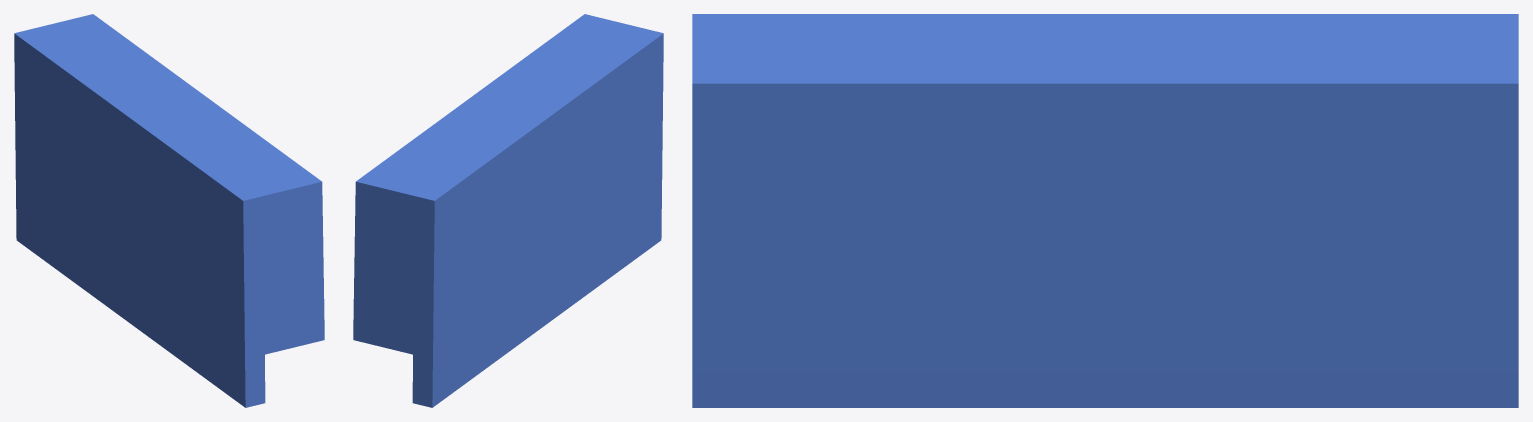
File: TopPlastic_Straight_Collision.fbx
3 views of the same model, side by side, from view 1: azimuth 30°, elevation 25°; view 2: azimuth 150°, elevation 25°; view 3: azimuth 270°, elevation 25° (orthographic). The views are drawn at different scales.
Visible parts, largest first — view 1: TopPlastic_Straight_Collision; view 2: TopPlastic_Straight_Collision; view 3: TopPlastic_Straight_Collision.
Part boxes in pixels (bbox=[...]): TopPlastic_Straight_Collision: bbox=[14, 14, 324, 407]; TopPlastic_Straight_Collision: bbox=[353, 14, 663, 407]; TopPlastic_Straight_Collision: bbox=[692, 14, 1518, 407].
Size of the model in its own units: 82.25 by 200 by 400.
